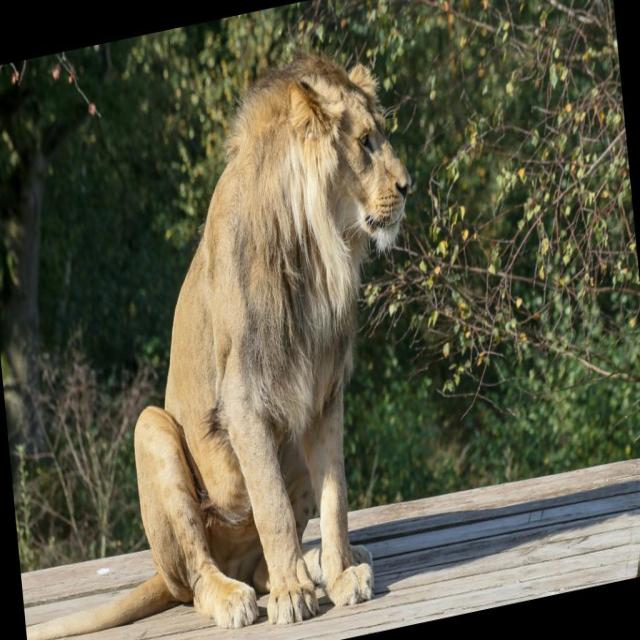Lion: (0, 21, 448, 639)
